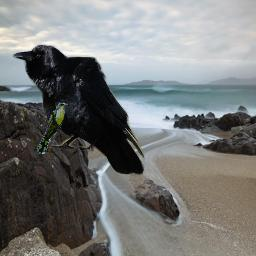Crow: (12, 44, 147, 177)
Cuckoo: (37, 103, 68, 154)
